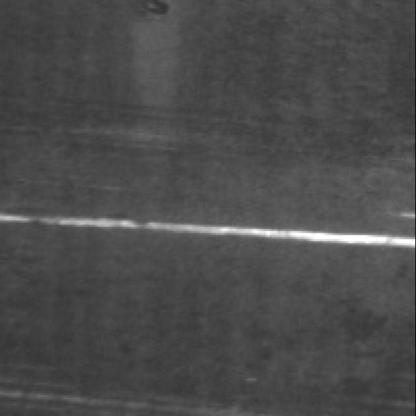scratches: (10, 206, 416, 245)
